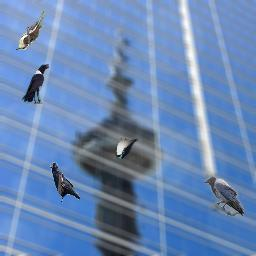Crow: (204, 176, 244, 216), (50, 162, 80, 202), (22, 64, 49, 104)
Cuckoo: (16, 10, 45, 50)
Swallow: (115, 138, 138, 159)
